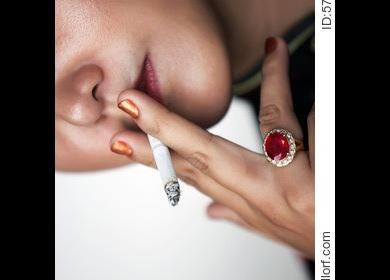Cigarette: (146, 132, 180, 206)
